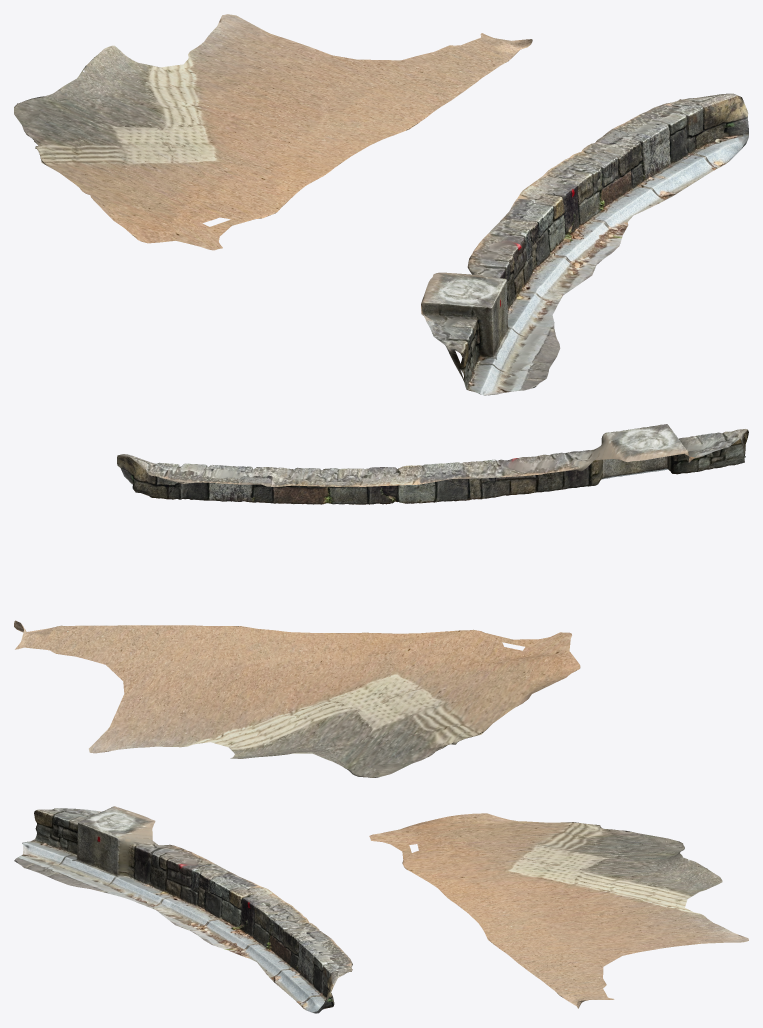
The picture shows the model from 3 angles, top to bottom: view 1: azimuth 30°, elevation 25°; view 2: azimuth 150°, elevation 25°; view 3: azimuth 270°, elevation 25°; orthographic projection. The views are drawn at different scales.
Visible parts, largest first — view 1: baked_mesh_95758c46; view 2: baked_mesh_95758c46; view 3: baked_mesh_95758c46.
Boxes of the visible parts, <box> form: baked_mesh_95758c46: <box>14,14,748,395</box>; baked_mesh_95758c46: <box>14,424,748,777</box>; baked_mesh_95758c46: <box>14,806,748,1013</box>.
Bounding box in the file's own units: 0.628 × 0.0772 × 0.9407.
Materials: 1 (1 with a texture image).
